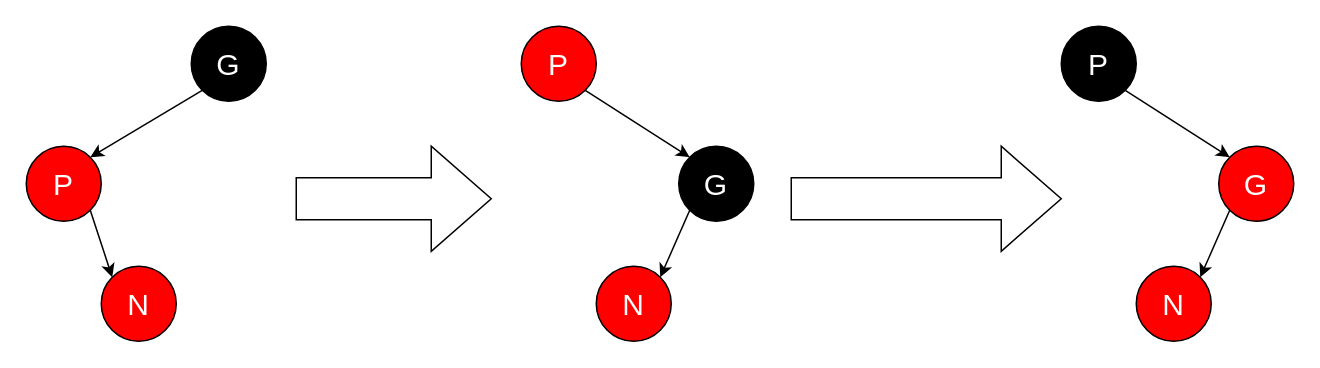
The diagram is 1320 pixels wide and 368 high, and some of its shapes have lost their labels. The shapes that lost their labels are listed below. From the top down, each one's box as (x1, y1, x2, y2) in pixels, then its label:
(295, 145, 491, 251): G向右旋转
(790, 145, 1061, 251): 交换G和P的颜色
